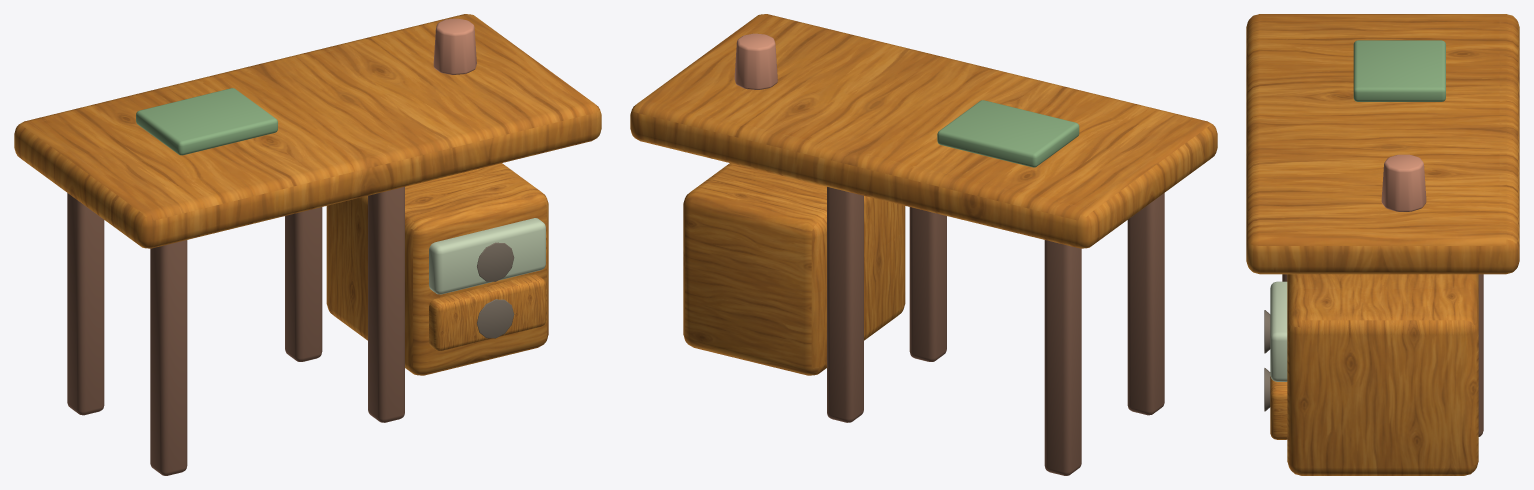
File: desk.glb
The picture shows the model from 3 angles, left to right: view 1: azimuth 30°, elevation 25°; view 2: azimuth 150°, elevation 25°; view 3: azimuth 270°, elevation 25°; orthographic projection. The views are drawn at different scales.
Visible parts, largest first — view 1: desk; view 2: desk; view 3: desk.
Boxes of the visible parts, <box> form: desk: <box>14,14,601,475</box>; desk: <box>630,14,1217,475</box>; desk: <box>1246,14,1519,475</box>.
Size of the model in its own units: 1.3 by 0.87 by 0.65.
6 materials, 1 textured.
